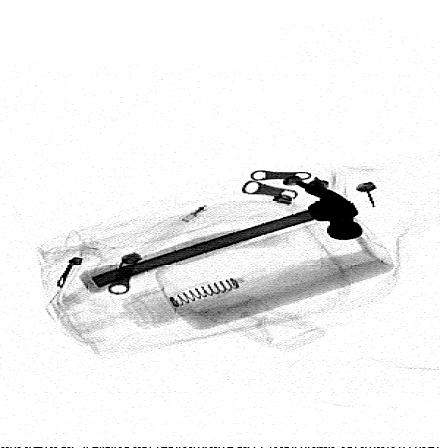Hammer: (77, 180, 364, 294)
